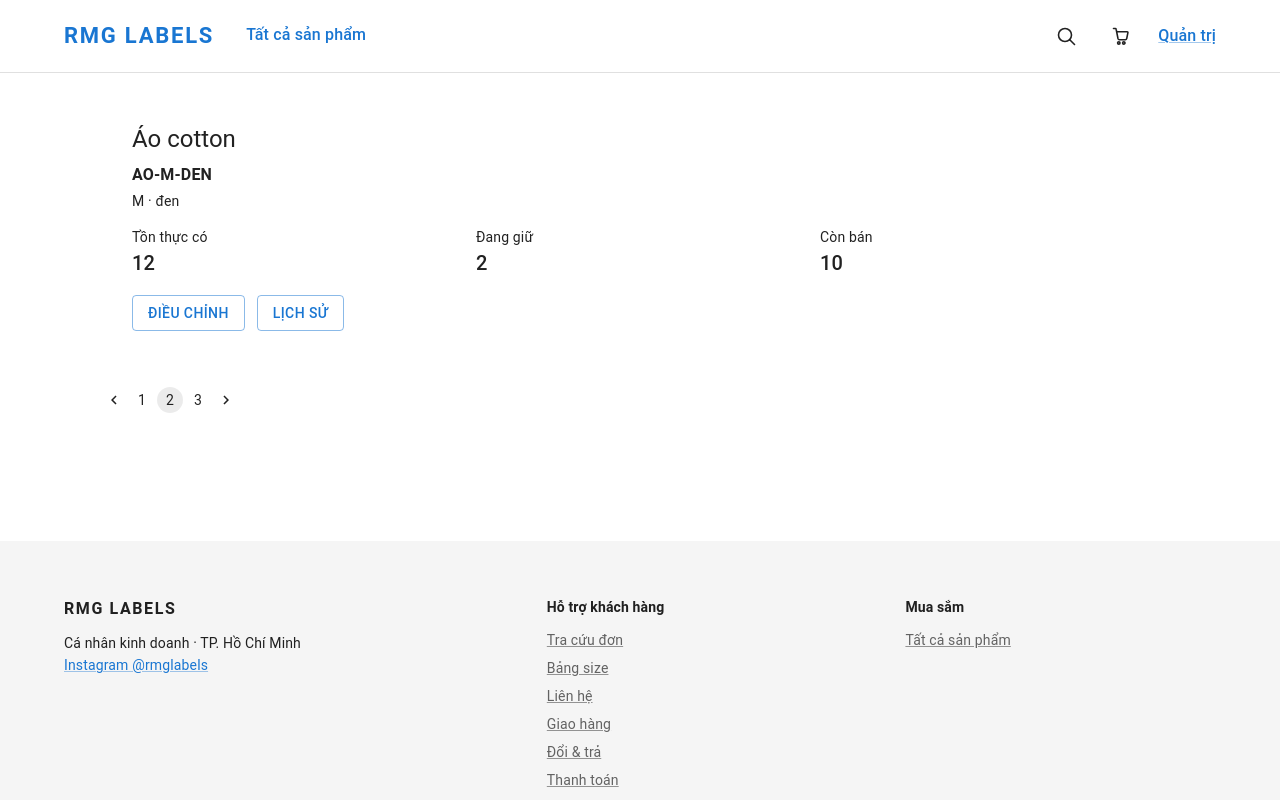
Test: admin inventory list › reads q/page from URL, encodes the search and preserves filters during pagination
The width and height of the screenshot is (1280, 800).
(page scrolled)
Expected: the list item "AO-M-DEN" is shown, [100,91,1180,363]
Click the button named "Trang 3" at (198, 400), box [185,387,211,413]
(page scrolled)
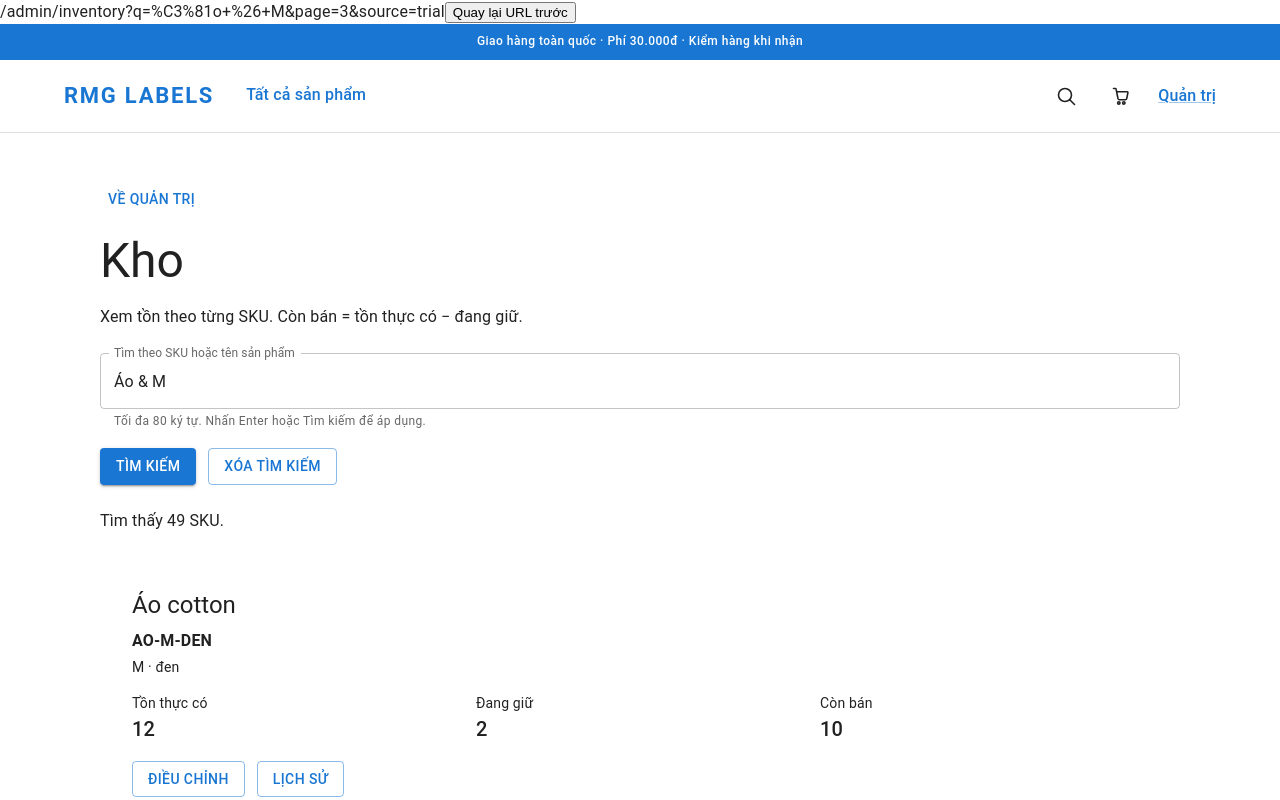
Expected: the text with test id "url" shows "source=trial", [125,2,445,21]
Expected: the text with test id "url" shows "page=3", [125,2,445,21]
